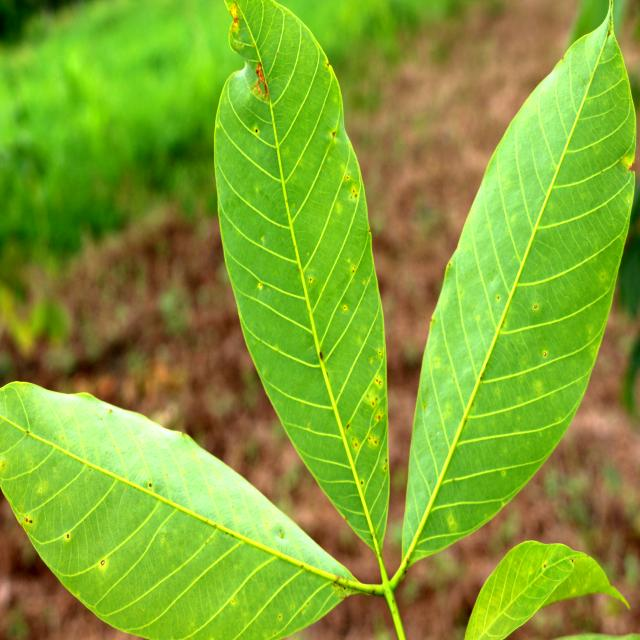Colletotrichum: (101, 560, 105, 565), (67, 534, 69, 538)
